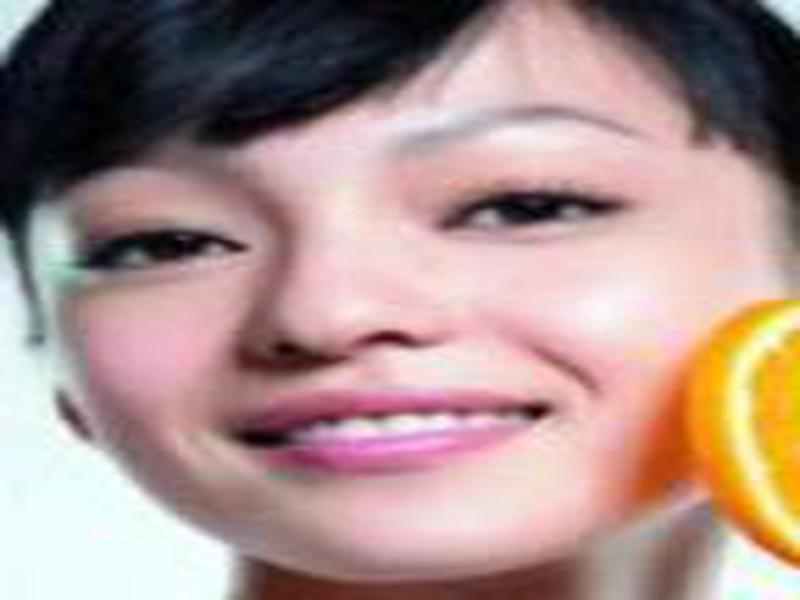without_mask: (31, 98, 731, 579)
